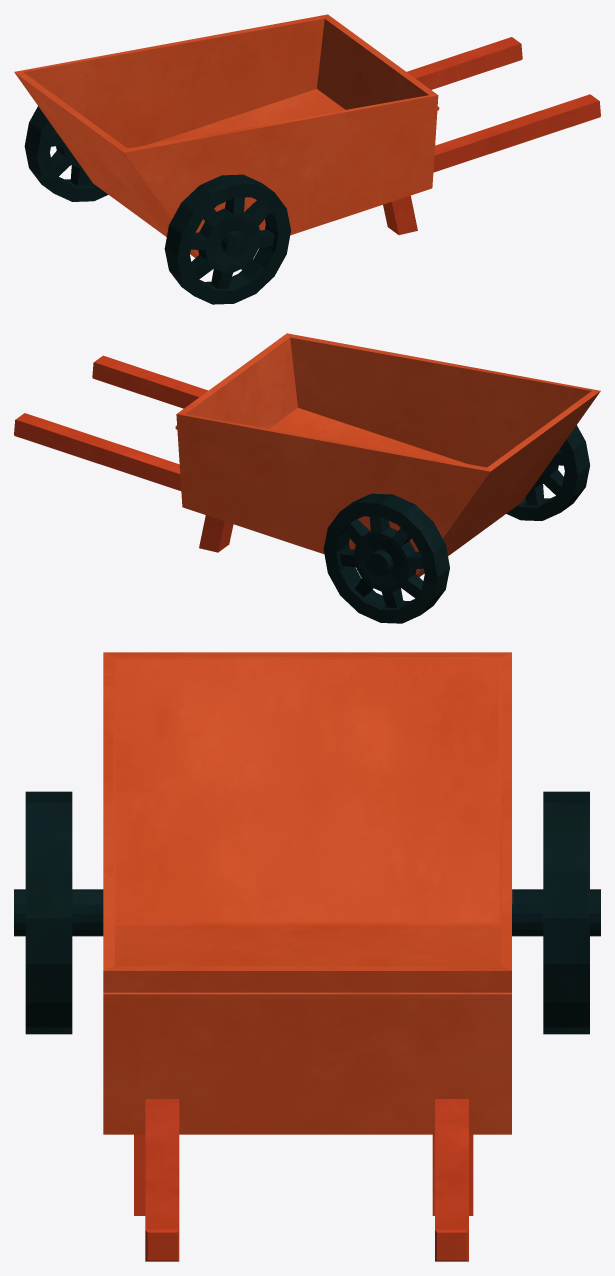
The model's file is Wheelbarrow 1.fbx.
The picture shows the model from 3 angles, top to bottom: view 1: azimuth 30°, elevation 25°; view 2: azimuth 150°, elevation 25°; view 3: azimuth 270°, elevation 25°; orthographic projection. The views are drawn at different scales.
Visible parts, largest first — view 1: Wheelbarrow_LOD_A; view 2: Wheelbarrow_LOD_A; view 3: Wheelbarrow_LOD_A.
Part boxes in pixels (x1,y1,x2,y2): Wheelbarrow_LOD_A: (14,14,600,304); Wheelbarrow_LOD_A: (14,333,600,623); Wheelbarrow_LOD_A: (14,652,600,1261).
Size of the model in its own units: 63.82 by 19.75 by 35.93.
Materials: 1 (1 with a texture image).
